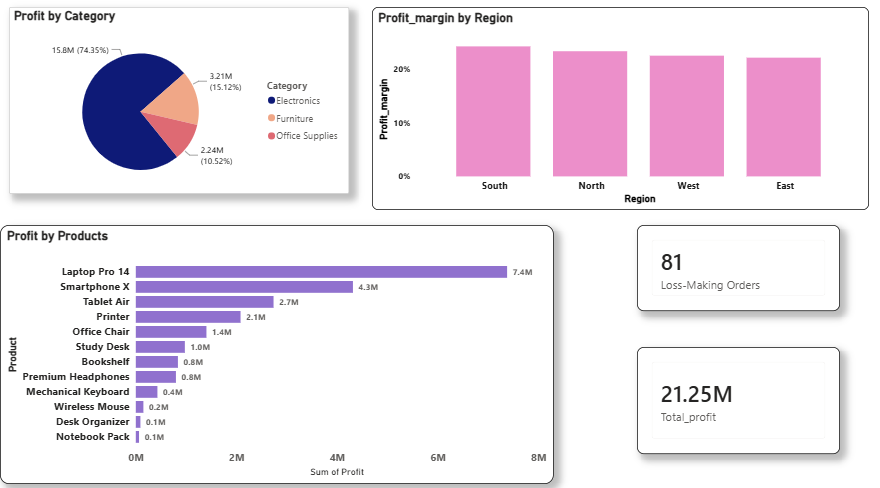

The page's visual inventory and layout, read from the dashboard file:
{"tool":"powerbi","page":{"name":"profitability and loss","canvas":[1280,720],"ordinal":3},"visuals":[{"type":"pieChart","title":" Profit by Category","fields":{"Category":["Ecommerce_Products.Category"],"Y":["Ecommerce_Orders (1).Total_profit"]},"box":[12.9,10,485.7,267.1],"z":0},{"type":"barChart","title":" Profit by Products","fields":{"Category":["Ecommerce_Products.Product"],"Y":["Sum(Ecommerce_Orders (1).Profit)"]},"box":[0,321.4,791.4,370],"z":1},{"type":"columnChart","fields":{"Category":["Ecommerce_Orders (1).Region"],"Y":["Ecommerce_Orders (1).Profit_margin"]},"box":[531.4,10,710,290],"z":2},{"type":"cardVisual","fields":{"Data":["Ecommerce_Orders (1).Loss-Making Orders"]},"box":[910,321.4,290,122.9],"z":3},{"type":"cardVisual","fields":{"Data":["Ecommerce_Orders (1).Total_profit"]},"box":[910,495.7,290,152.9],"z":4}]}

Visuals, with their boxes in screenshot pixels (x1, y1, x2, y2), scaled from the page's 1280x720 canvas onto the 880x488 screenshot:
" Profit by Category" pieChart: x1=9, y1=7, x2=343, y2=188
" Profit by Products" barChart: x1=0, y1=218, x2=544, y2=469
columnChart - Ecommerce_Orders (1).Region x Ecommerce_Orders (1).Profit_margin: x1=365, y1=7, x2=853, y2=203
cardVisual - Ecommerce_Orders (1).Loss-Making Orders: x1=626, y1=218, x2=825, y2=301
cardVisual - Ecommerce_Orders (1).Total_profit: x1=626, y1=336, x2=825, y2=440
